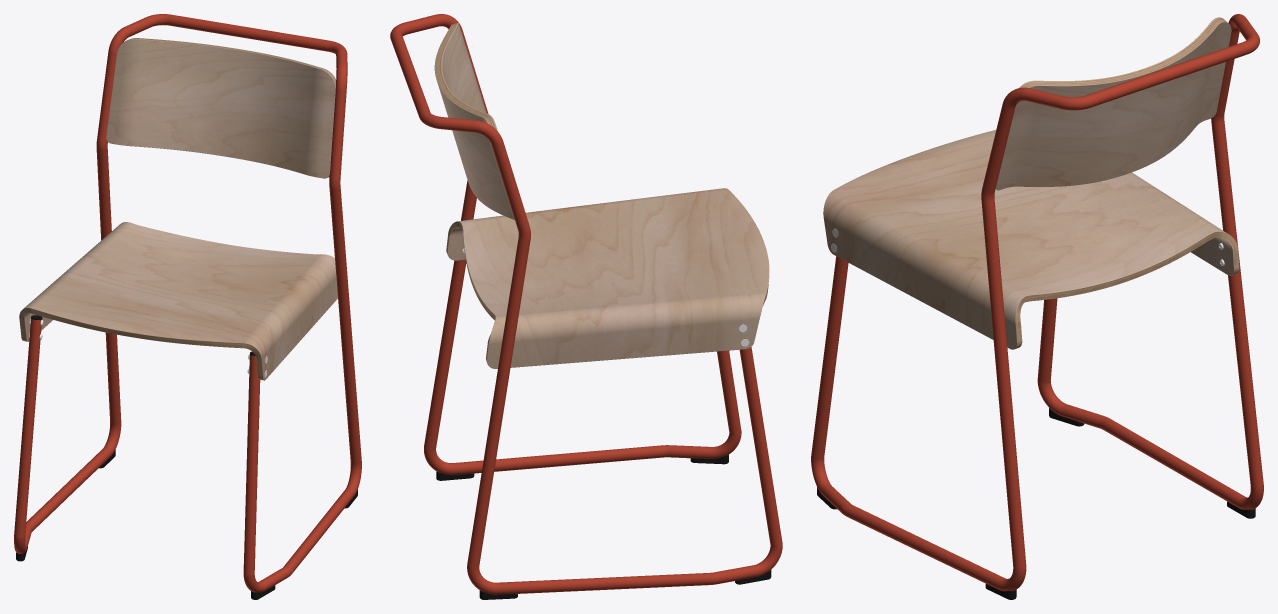
Rendered from CUC_BEECH_CORAL_RED_100DPI_ALL_TEXTURE.glb.
3 renders of one model, left to right at view 1: azimuth 30°, elevation 25°; view 2: azimuth 150°, elevation 25°; view 3: azimuth 270°, elevation 25°, orthographic. The views are drawn at different scales.
Parts seen in each view (by area): view 1: VGP_CUC_SEAT_RENDER_0_1, VGP_CUC_BACK_RENDER_0, VGP_CUC_FR_RENDER_Default<As Machined>_0, VGP_CUC_SEAT_RENDER_1_0_0, VGP_CUC_BACK_RENDER_1; view 2: VGP_CUC_SEAT_RENDER_0_1, VGP_CUC_FR_RENDER_Default<As Machined>_0, VGP_CUC_BACK_RENDER_0, VGP_CUC_BACK_RENDER_1; view 3: VGP_CUC_SEAT_RENDER_0_1, VGP_CUC_FR_RENDER_Default<As Machined>_0, VGP_CUC_BACK_RENDER_0, VGP_CUC_SEAT_RENDER_1_0_1, VGP_CUC_BACK_RENDER_1, VGP_CUC_SEAT_RENDER_0_0.
Part boxes in pixels (box(x1,y1,x2,y2)): VGP_CUC_SEAT_RENDER_0_1: box(19, 222, 337, 380); VGP_CUC_BACK_RENDER_0: box(106, 39, 335, 178); VGP_CUC_FR_RENDER_Default<As Machined>_0: box(14, 14, 361, 592); VGP_CUC_SEAT_RENDER_1_0_0: box(19, 309, 263, 380); VGP_CUC_BACK_RENDER_1: box(130, 38, 335, 177); VGP_CUC_SEAT_RENDER_0_1: box(452, 188, 769, 368); VGP_CUC_FR_RENDER_Default<As Machined>_0: box(390, 14, 782, 594); VGP_CUC_BACK_RENDER_0: box(434, 22, 514, 219); VGP_CUC_BACK_RENDER_1: box(435, 22, 497, 130); VGP_CUC_SEAT_RENDER_0_1: box(823, 130, 1239, 349); VGP_CUC_FR_RENDER_Default<As Machined>_0: box(811, 14, 1263, 591); VGP_CUC_BACK_RENDER_0: box(996, 18, 1231, 190); VGP_CUC_SEAT_RENDER_1_0_1: box(1016, 232, 1239, 343); VGP_CUC_BACK_RENDER_1: box(995, 17, 1227, 188); VGP_CUC_SEAT_RENDER_0_0: box(1021, 237, 1234, 339).
Bounding box in the file's own units: 0.672 × 0.808 × 0.654.
Materials: 27 (9 with a texture image).
